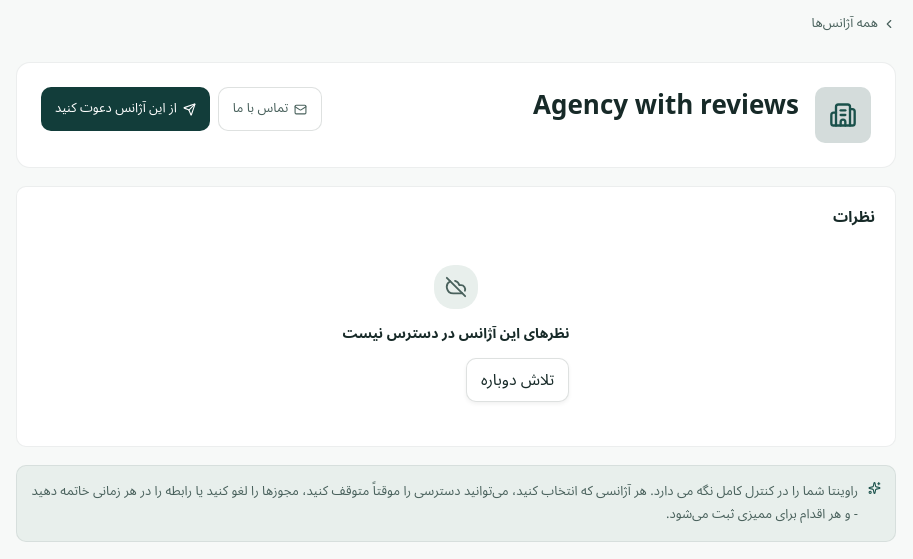
Test: failed review read never claims there are zero reviews and can retry safely
This screenshot has width=913, height=559.
Check: the heading "Agency with reviews" is shown, box [533,78,799,133]
Check: the text "نظرهای این آژانس در دسترس نیست" is shown, box [343,321,569,346]
What coordinates should you click on to do the following:
click the button "تلاش دوباره"
I would click on:
 (518, 380)
Its box is [466,358,569,402].
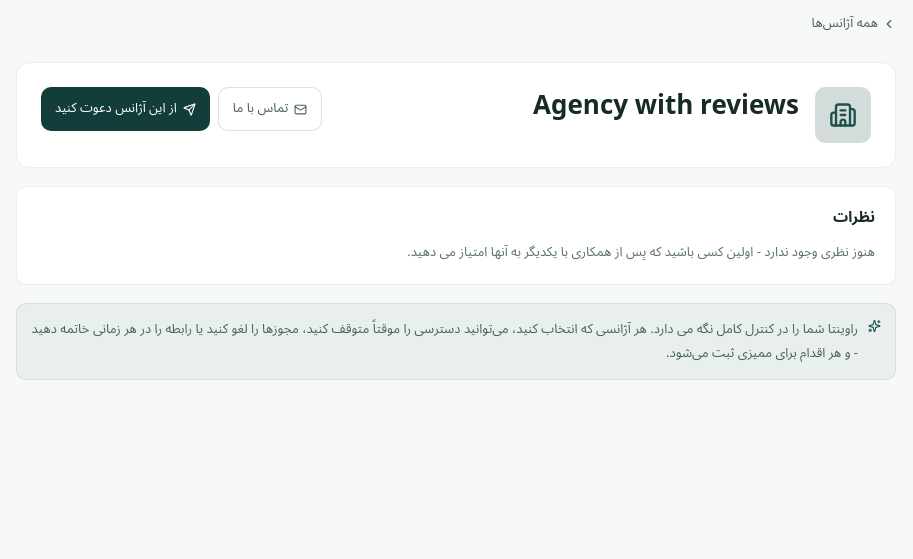
Check: the text "هنوز نظری وجود ندارد" is shown, box [407,238,875,266]
